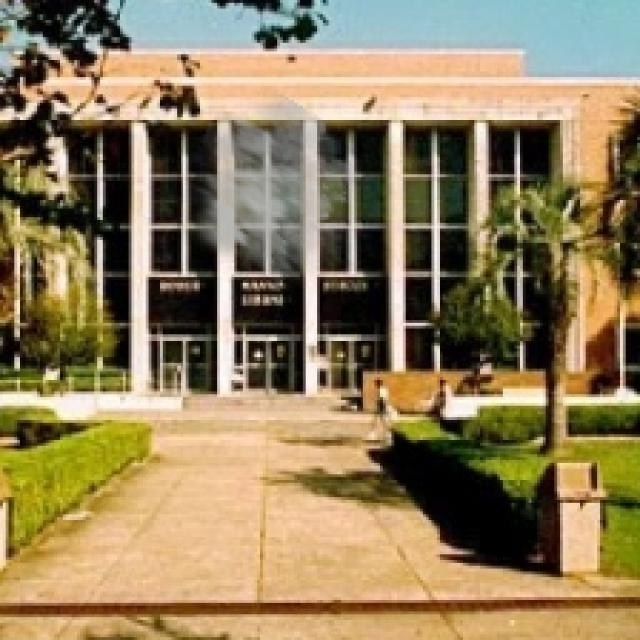smoke: (163, 85, 363, 288)
